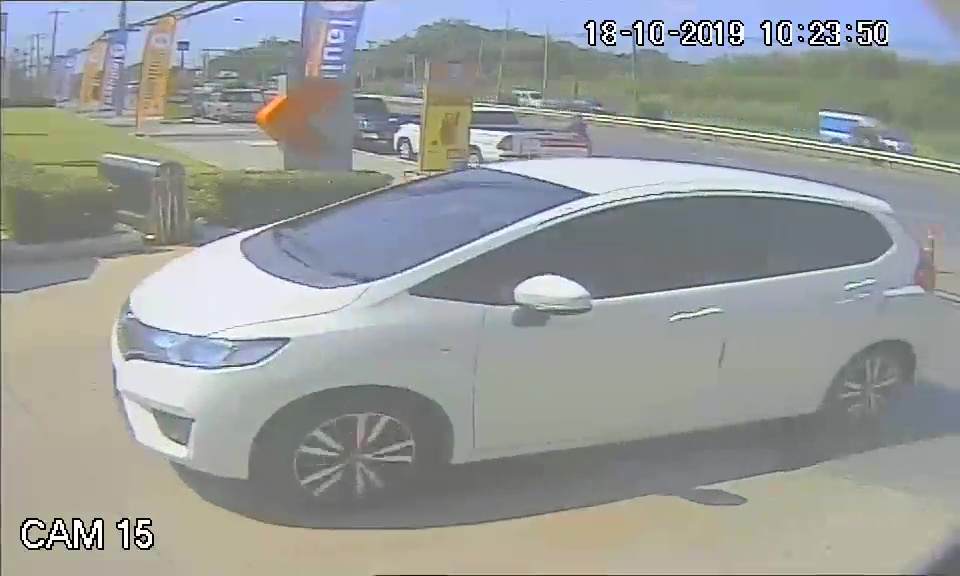sedan: (105, 157, 928, 492)
